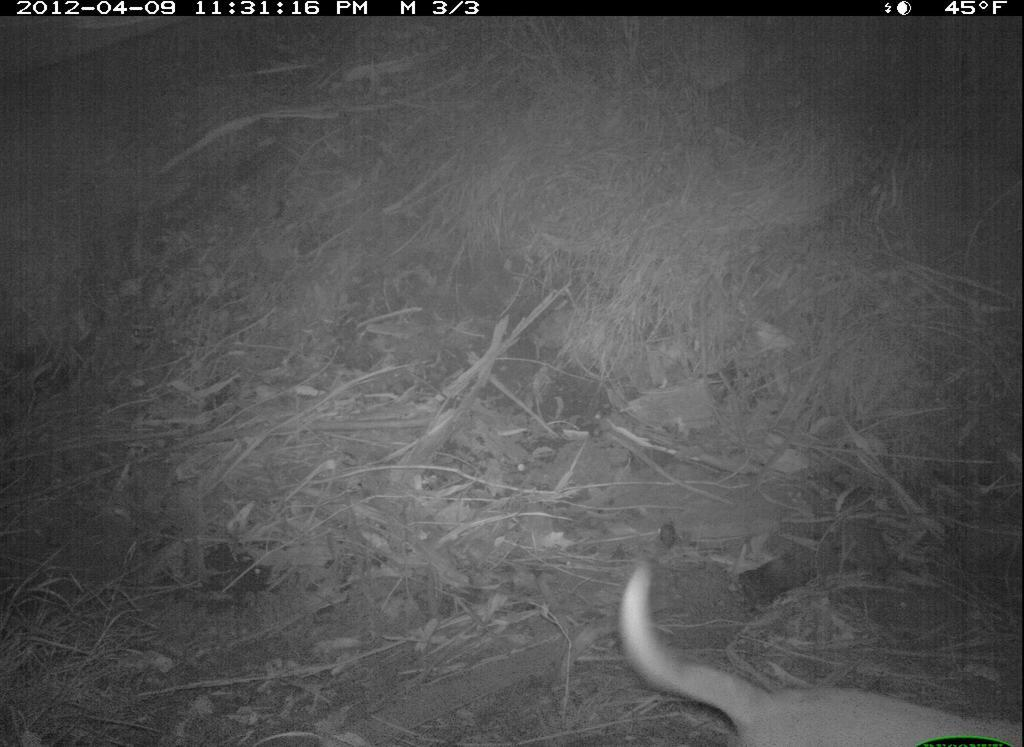dog: (615, 509, 1023, 745)
